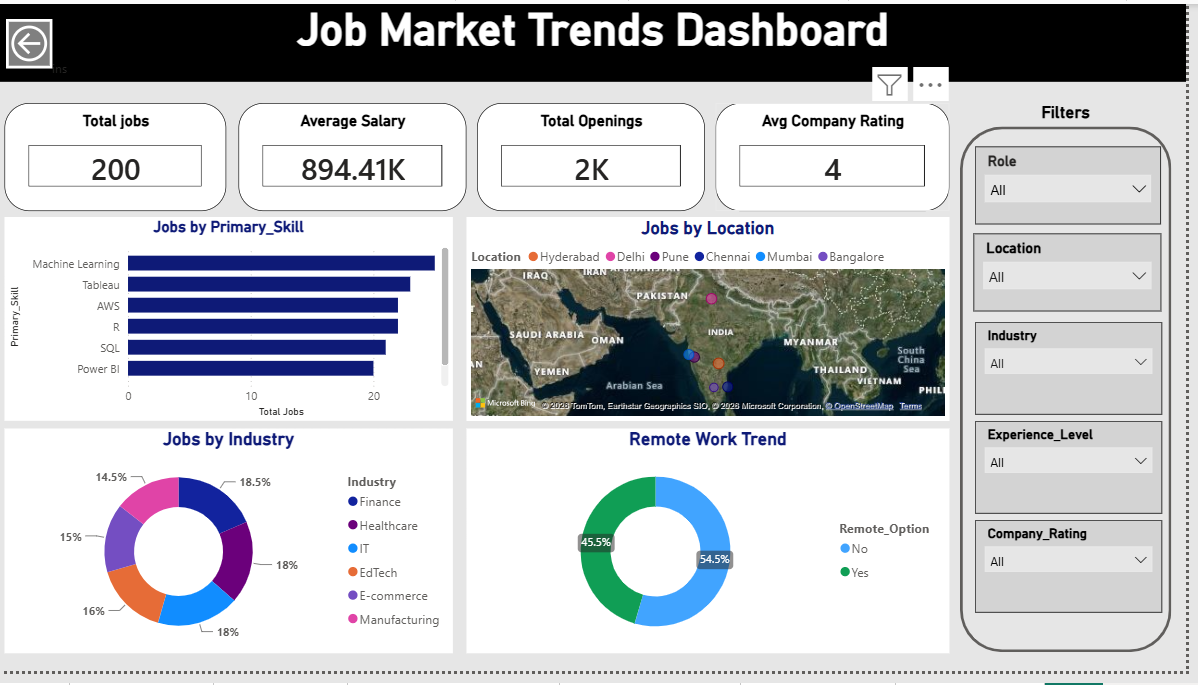

What the dashboard file says about the page in this screenshot:
{"tool":"powerbi","page":{"name":"Job Market Trends","canvas":[1280,720],"ordinal":3},"visuals":[{"type":"textbox","title":"Job Market Trends  Dashboard","box":[0,0,1280.8,84.2],"z":0},{"type":"cardVisual","title":"Total jobs","fields":{"Data":["job_market_trends_dataset_200ro.Total Jobs"]},"box":[4.9,106.9,239.6,116.6],"z":1000},{"type":"cardVisual","title":"Average Salary","fields":{"Data":["job_market_trends_dataset_200ro.Avg Salary"]},"box":[257.5,106.9,246.1,116.6],"z":2000},{"type":"cardVisual","title":"Total Openings","fields":{"Data":["job_market_trends_dataset_200ro.Total Openings"]},"box":[514.9,106.9,246.1,116.6],"z":3000},{"type":"cardVisual","title":"Avg Company Rating","fields":{"Data":["job_market_trends_dataset_200ro.Avg Rating"]},"box":[772.4,106.9,252.6,116.6],"z":4000},{"type":"barChart","title":" Jobs by Primary_Skill","fields":{"Category":["job_market_trends_dataset_200ro.Primary_Skill"],"Y":["job_market_trends_dataset_200ro.Total Jobs"]},"box":[4.9,229.9,484.1,220.2],"z":5000},{"type":"map","title":"Jobs by Location ","fields":{"Series":["job_market_trends_dataset_200ro.Location"],"Size":["job_market_trends_dataset_200ro.Total Jobs"],"Category":["job_market_trends_dataset_200ro.Location"]},"box":[503.6,229.9,521.4,220.2],"z":6000},{"type":"donutChart","title":" Jobs by Industry","fields":{"Category":["job_market_trends_dataset_200ro.Industry"],"Y":["job_market_trends_dataset_200ro.Total Jobs"]},"box":[4.9,458.2,484.1,242.9],"z":7000},{"type":"actionButton","title":"Filters","box":[1036.3,106.9,228.3,592.6],"z":8000},{"type":"slicer","fields":{"Values":["job_market_trends_dataset_200ro.Industry"]},"box":[1052.5,343.3,202,100],"z":9000},{"type":"slicer","fields":{"Values":["job_market_trends_dataset_200ro.Role"]},"box":[1052.5,153.8,200.8,84.2],"z":10000},{"type":"slicer","fields":{"Values":["job_market_trends_dataset_200ro.Location"]},"box":[1050.9,247.7,202.4,84.2],"z":11000},{"type":"slicer","fields":{"Values":["job_market_trends_dataset_200ro.Experience_Level"]},"box":[1052.5,450.1,202,100],"z":12000},{"type":"slicer","fields":{"Values":["job_market_trends_dataset_200ro.Company_Rating"]},"box":[1052.5,557,202,100],"z":13000},{"type":"actionButton","box":[6.5,16.2,50.2,53.4],"z":14000},{"type":"donutChart","title":"Remote Work Trend","fields":{"Category":["job_market_trends_dataset_200ro.Remote_Option"],"Y":["job_market_trends_dataset_200ro.Total Jobs"]},"box":[503.6,458.2,521.4,242.9],"z":15000}]}

Visuals, with their boxes in screenshot pixels (x1, y1, x2, y2), scaled from the page's 1280x720 canvas onto the 1198x685 screenshot:
"Job Market Trends  Dashboard" textbox: <bbox>0, 0, 1197, 80</bbox>
"Total jobs" cardVisual: <bbox>5, 102, 229, 213</bbox>
"Average Salary" cardVisual: <bbox>241, 102, 471, 213</bbox>
"Total Openings" cardVisual: <bbox>482, 102, 712, 213</bbox>
"Avg Company Rating" cardVisual: <bbox>723, 102, 959, 213</bbox>
" Jobs by Primary_Skill" barChart: <bbox>5, 219, 458, 428</bbox>
"Jobs by Location " map: <bbox>471, 219, 959, 428</bbox>
" Jobs by Industry" donutChart: <bbox>5, 436, 458, 667</bbox>
"Filters" actionButton: <bbox>970, 102, 1184, 665</bbox>
slicer - job_market_trends_dataset_200ro.Industry: <bbox>985, 327, 1174, 422</bbox>
slicer - job_market_trends_dataset_200ro.Role: <bbox>985, 146, 1173, 226</bbox>
slicer - job_market_trends_dataset_200ro.Location: <bbox>984, 236, 1173, 316</bbox>
slicer - job_market_trends_dataset_200ro.Experience_Level: <bbox>985, 428, 1174, 523</bbox>
slicer - job_market_trends_dataset_200ro.Company_Rating: <bbox>985, 530, 1174, 625</bbox>
actionButton: <bbox>6, 15, 53, 66</bbox>
"Remote Work Trend" donutChart: <bbox>471, 436, 959, 667</bbox>
